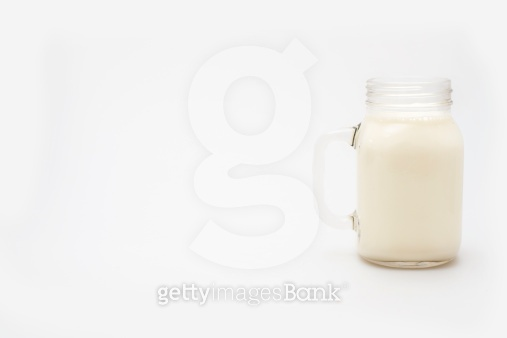glass of milk: (350, 78, 474, 274)
